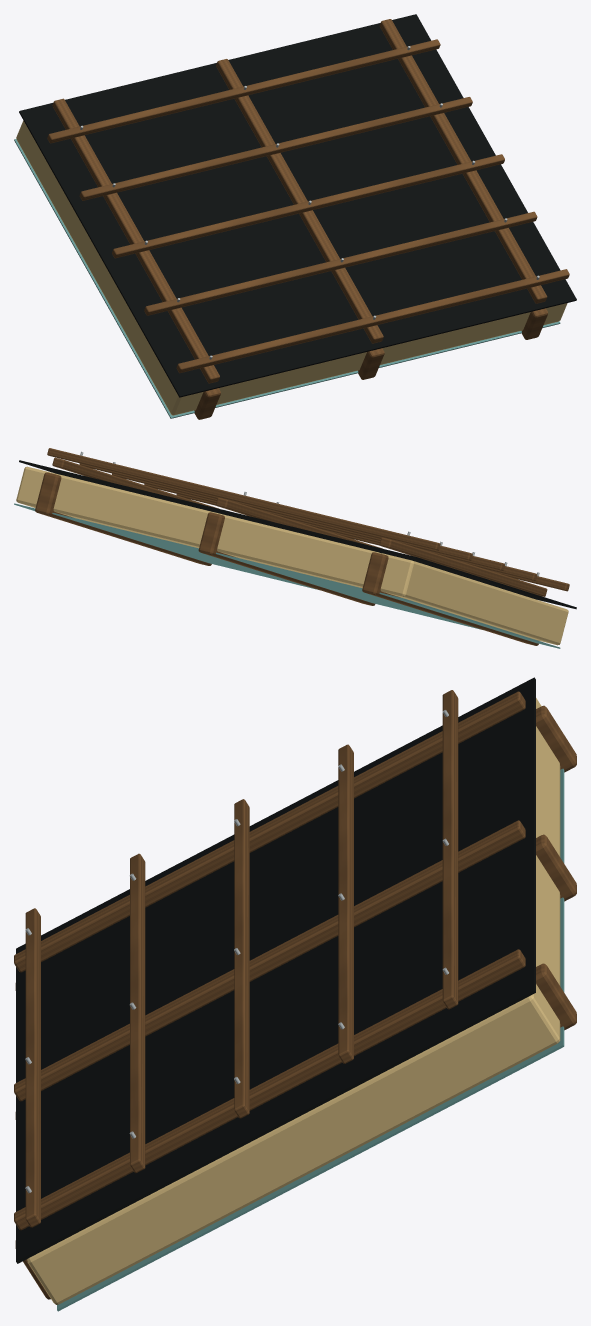
File: modell.glb
3 renders of one model, top to bottom at view 1: azimuth 30°, elevation 25°; view 2: azimuth 150°, elevation 25°; view 3: azimuth 270°, elevation 25°, orthographic. The views are drawn at different scales.
Visible parts, largest first — view 1: g03-zusatzebene_zusatzebene, g03-lattung_lattung, g03-anschluss_daemmung, g03-daemmung_daemmung, g03-luftdichtheit_luftdichtheit, g03-sparren_tragwerk; view 2: g03-daemmung_daemmung, g03-lattung_lattung, g03-anschluss_daemmung, g03-sparren_tragwerk, g03-luftdichtheit_luftdichtheit, g03-zusatzebene_zusatzebene; view 3: g03-zusatzebene_zusatzebene, g03-lattung_lattung, g03-daemmung_daemmung, g03-luftdichtheit_luftdichtheit, g03-sparren_tragwerk.
Part boxes in pixels (left/top/right/bottom): g03-zusatzebene_zusatzebene: left=19, top=14, right=576, bottom=397; g03-lattung_lattung: left=47, top=19, right=569, bottom=383; g03-anschluss_daemmung: left=16, top=120, right=203, bottom=415; g03-daemmung_daemmung: left=216, top=303, right=567, bottom=404; g03-luftdichtheit_luftdichtheit: left=14, top=139, right=560, bottom=418; g03-sparren_tragwerk: left=194, top=308, right=547, bottom=419; g03-daemmung_daemmung: left=16, top=466, right=381, bottom=588; g03-lattung_lattung: left=47, top=448, right=569, bottom=596; g03-anschluss_daemmung: left=380, top=553, right=568, bottom=645; g03-sparren_tragwerk: left=35, top=472, right=538, bottom=645; g03-luftdichtheit_luftdichtheit: left=14, top=503, right=560, bottom=648; g03-zusatzebene_zusatzebene: left=19, top=460, right=576, bottom=609; g03-zusatzebene_zusatzebene: left=16, top=677, right=535, bottom=1263; g03-lattung_lattung: left=14, top=690, right=525, bottom=1230; g03-daemmung_daemmung: left=27, top=726, right=560, bottom=1304; g03-luftdichtheit_luftdichtheit: left=57, top=768, right=564, bottom=1311; g03-sparren_tragwerk: left=15, top=705, right=576, bottom=1299.
Bounding box in the file's own units: 2.09 × 1.07 × 1.59.
5 materials, 1 textured.
